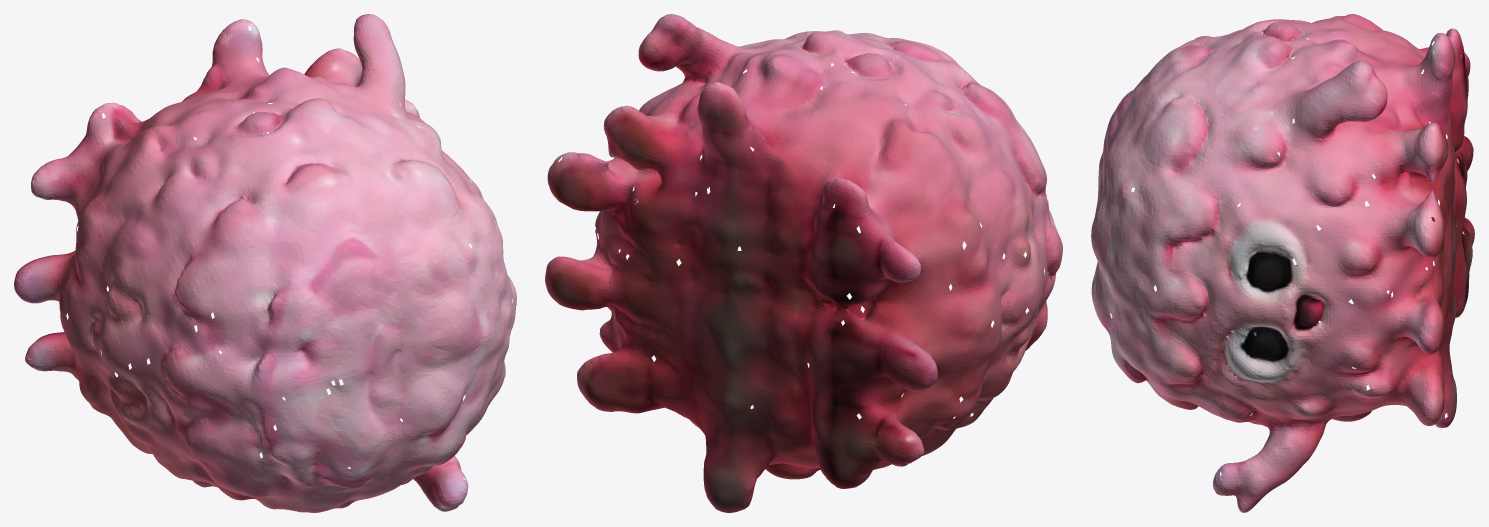
The model's file is melty.glb.
3 renders of one model, left to right at view 1: azimuth 30°, elevation 25°; view 2: azimuth 150°, elevation 25°; view 3: azimuth 270°, elevation 25°, orthographic. The views are drawn at different scales.
Parts seen in each view (by area): view 1: geometry_0; view 2: geometry_0; view 3: geometry_0.
Boxes of the visible parts, <box> form: geometry_0: <box>14,14,516,512</box>; geometry_0: <box>545,14,1062,512</box>; geometry_0: <box>1091,14,1474,512</box>.
Size of the model in its own units: 0.7346 by 0.8132 by 0.643.
Materials: 1 (1 with a texture image).
